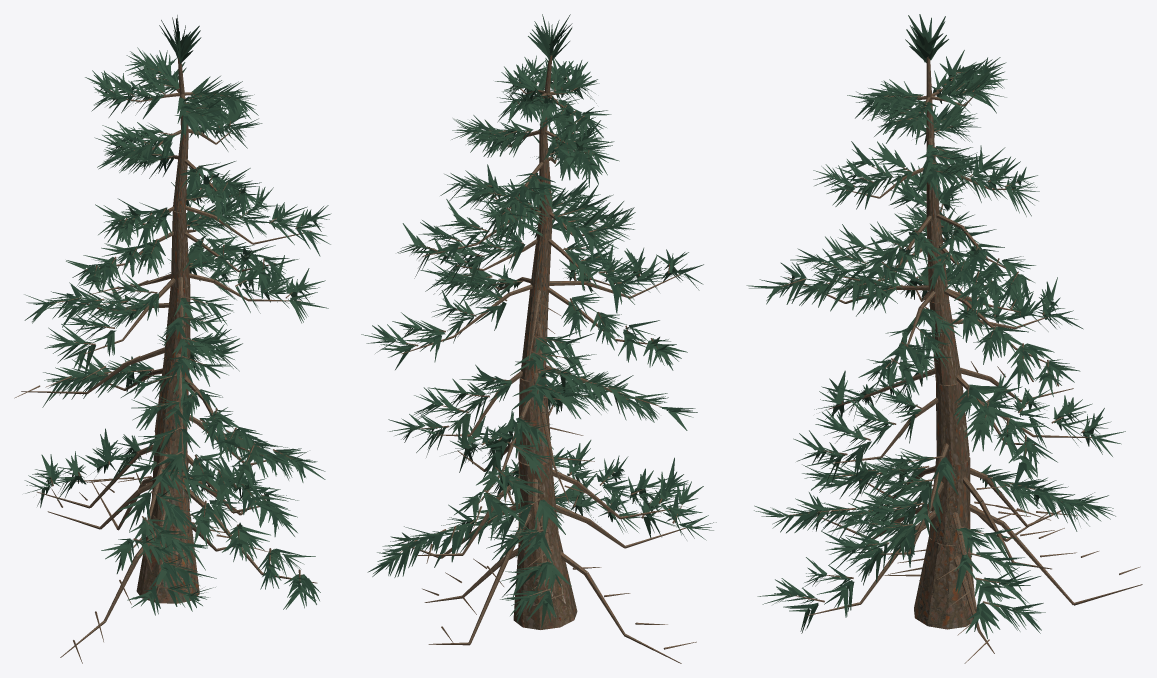
Rendered from detail_spruce_old_lod.glb.
The picture shows the model from 3 angles, left to right: view 1: azimuth 30°, elevation 25°; view 2: azimuth 150°, elevation 25°; view 3: azimuth 270°, elevation 25°; orthographic projection. The views are drawn at different scales.
Visible parts, largest first — view 1: Cone; view 2: Cone; view 3: Cone.
Boxes of the visible parts, left/top/right/bottom form: Cone: left=14, top=15, right=331, bottom=663; Cone: left=361, top=14, right=716, bottom=663; Cone: left=746, top=14, right=1142, bottom=663.
Size of the model in its own units: 4.81 by 10.26 by 5.91.
3 materials, 1 textured.
